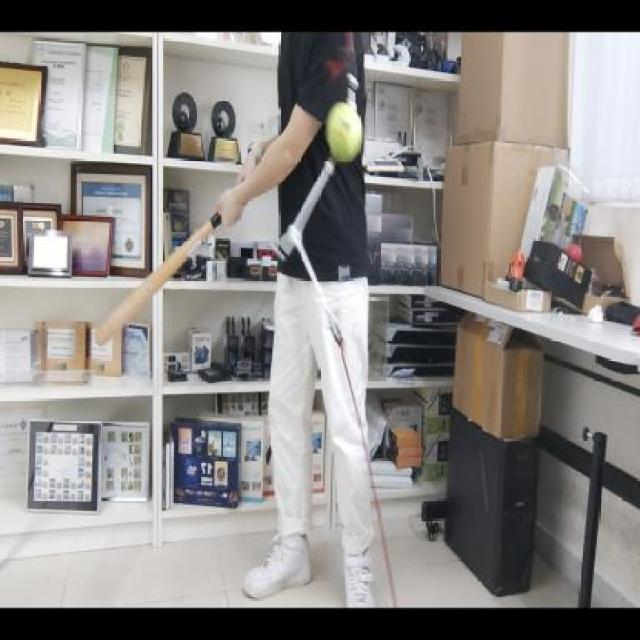baseball: (327, 98, 362, 162)
